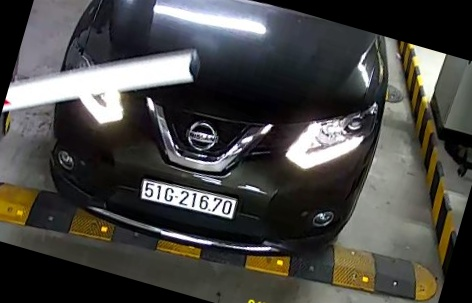plate: (138, 173, 243, 225)
